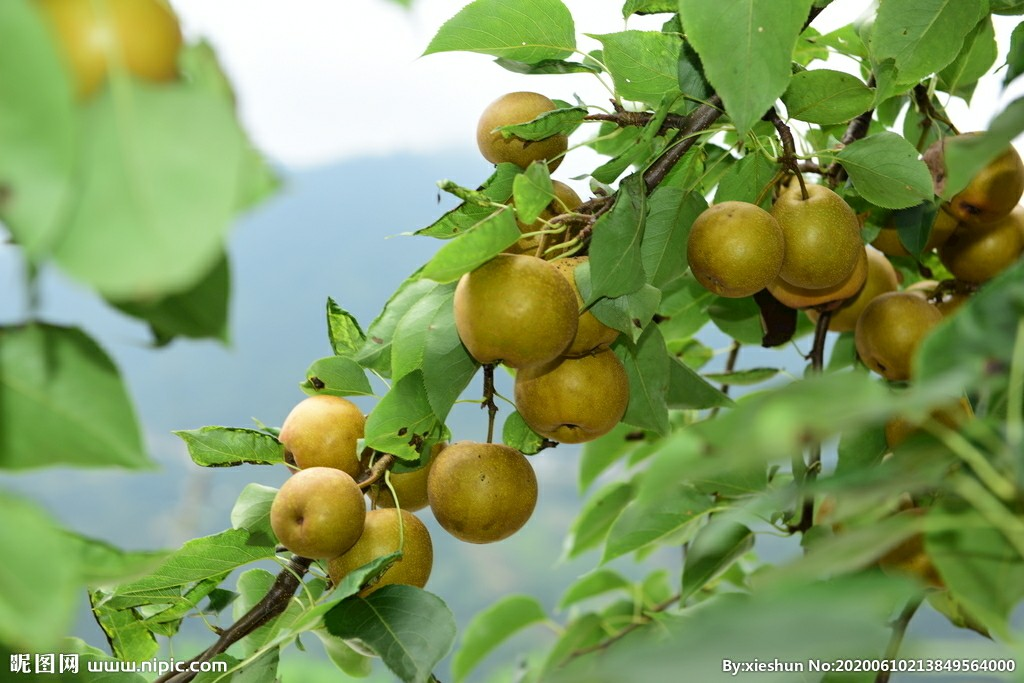pear: (452, 256, 574, 371), (428, 441, 539, 545), (512, 344, 630, 441), (537, 252, 632, 356), (770, 186, 863, 292), (331, 506, 432, 600), (272, 463, 365, 563), (688, 202, 784, 298), (856, 290, 946, 388), (933, 133, 1024, 221), (806, 243, 897, 331), (278, 393, 372, 477), (476, 92, 571, 173), (363, 433, 446, 514), (933, 220, 1024, 285)
